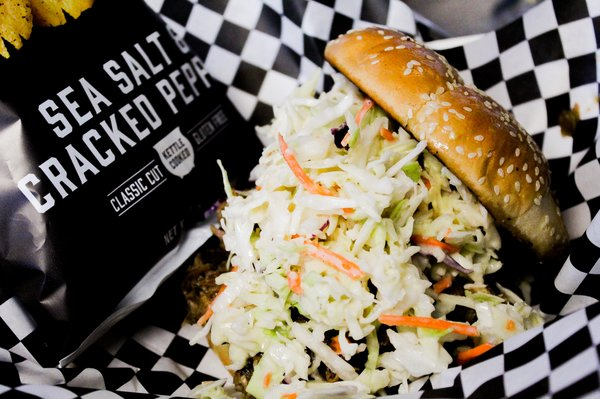soup: (198, 26, 590, 393)
